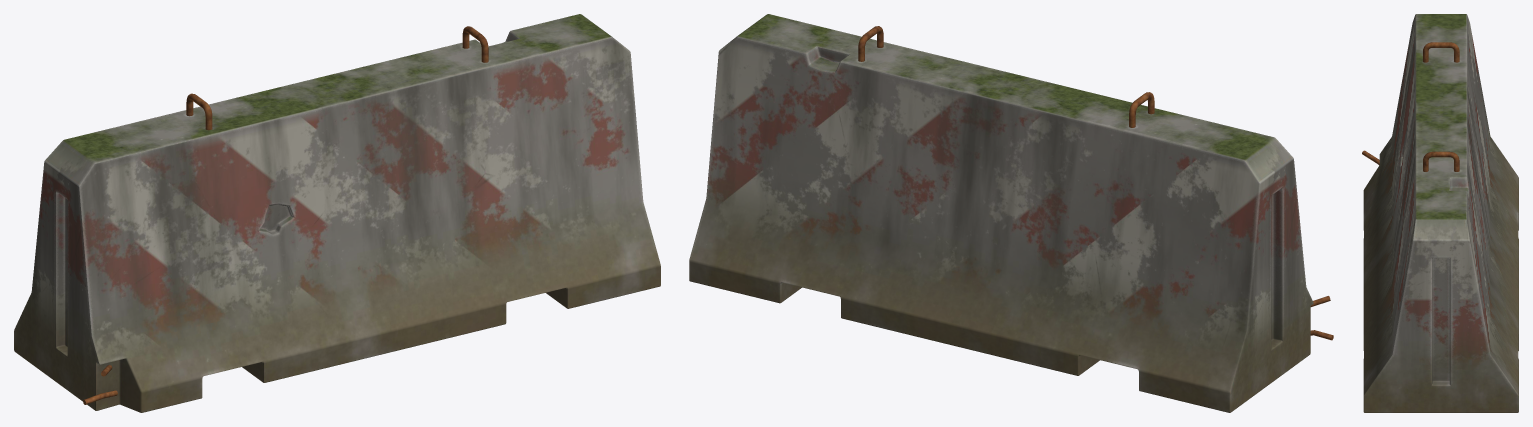
The model's file is Barrier.glb.
3 renders of one model, left to right at view 1: azimuth 30°, elevation 25°; view 2: azimuth 150°, elevation 25°; view 3: azimuth 270°, elevation 25°, orthographic. The views are drawn at different scales.
Visible parts, largest first — view 1: Barrier; view 2: Barrier; view 3: Barrier.
Part boxes in pixels (x1=…): Barrier: x1=14, y1=14, x2=660, y2=412; Barrier: x1=689, y1=14, x2=1333, y2=412; Barrier: x1=1362, y1=14, x2=1518, y2=412.
Size of the model in its own units: 2.06 by 0.881 by 0.606.
Materials: 1 (1 with a texture image).
